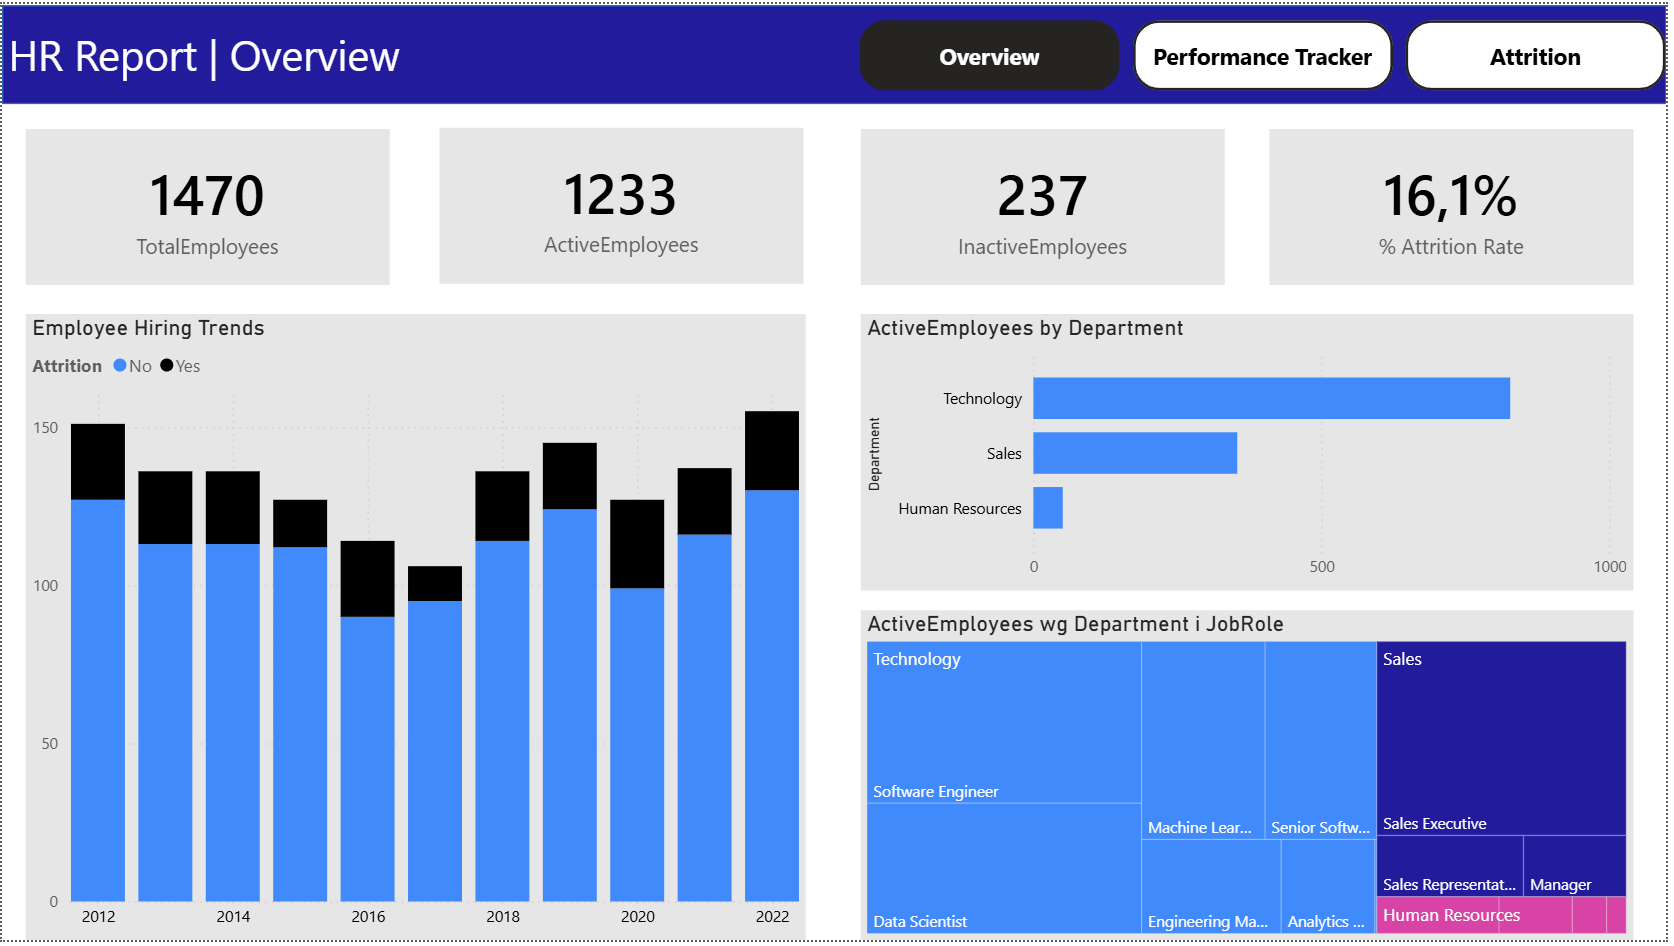

The page's visual inventory and layout, read from the dashboard file:
{"tool":"powerbi","page":{"name":"Overview","canvas":[1280,720],"ordinal":0},"visuals":[{"type":"shape","box":[0,1.4,1280.3,76.1],"z":0},{"type":"textbox","box":[0,12.7,336.6,63.4],"z":1000},{"type":"pageNavigator","box":[660.3,0.8,619.8,77],"z":2000},{"type":"card","fields":{"Values":["_mesures.TotalEmployees"]},"box":[18,96,280,120],"z":3000},{"type":"card","fields":{"Values":["_mesures.ActiveEmployees"]},"box":[337,95,280,120],"z":4000},{"type":"card","fields":{"Values":["_mesures.InactiveEmployees"]},"box":[661,96,280,120],"z":5000},{"type":"card","fields":{"Values":["_mesures.% Attrition Rate"]},"box":[975,96,280,120],"z":6000},{"type":"columnChart","title":"Employee Hiring Trends","fields":{"Category":["DimDate.Date.Odmiana.Hierarchia dat.Rok","DimDate.Date.Odmiana.Hierarchia dat.Kwartał","DimDate.Date.Odmiana.Hierarchia dat.Miesiąc","DimDate.Date.Odmiana.Hierarchia dat.Dzień"],"Y":["_mesures.TotalEmployeesDate"],"Series":["Employee.Attrition"]},"box":[18,238,600,482],"z":7000},{"type":"barChart","title":"ActiveEmployees by Department","fields":{"Y":["_mesures.ActiveEmployees"],"Category":["Employee.Department"]},"box":[661,238,594,213],"z":8000},{"type":"treemap","fields":{"Group":["Employee.Department"],"Details":["Employee.JobRole"],"Values":["_mesures.ActiveEmployees"]},"box":[661,466,594,254],"z":9000}]}

Visuals, with their boxes in screenshot pixels (x1, y1, x2, y2), scaled from the page's 1280x720 canvas onto the 1674x946 screenshot:
shape: box=[0, 2, 1673, 102]
textbox: box=[0, 17, 440, 100]
pageNavigator: box=[864, 1, 1673, 102]
card - _mesures.TotalEmployees: box=[24, 126, 390, 284]
card - _mesures.ActiveEmployees: box=[441, 125, 807, 282]
card - _mesures.InactiveEmployees: box=[864, 126, 1231, 284]
card - _mesures.% Attrition Rate: box=[1275, 126, 1641, 284]
"Employee Hiring Trends" columnChart: box=[24, 313, 808, 945]
"ActiveEmployees by Department" barChart: box=[864, 313, 1641, 593]
treemap - Employee.Department x Employee.JobRole: box=[864, 612, 1641, 945]
